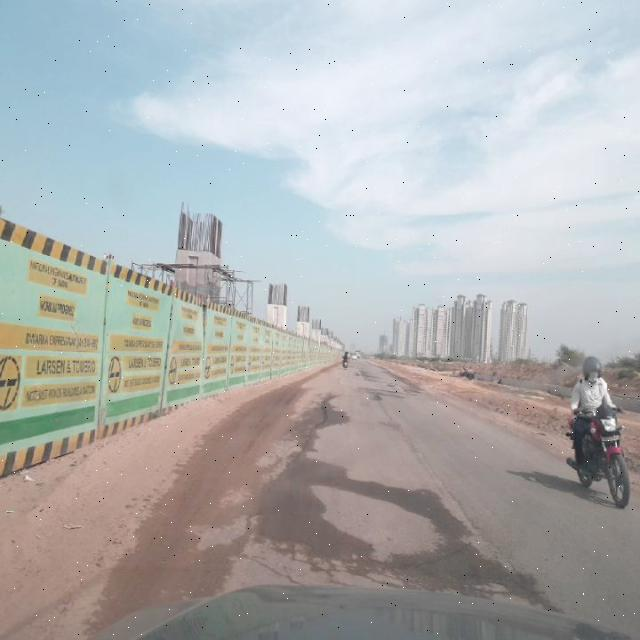D00: (378, 408, 524, 591), (245, 378, 337, 524)
D10: (232, 526, 503, 566)
D20: (229, 526, 505, 588)
D40: (244, 377, 335, 522)
